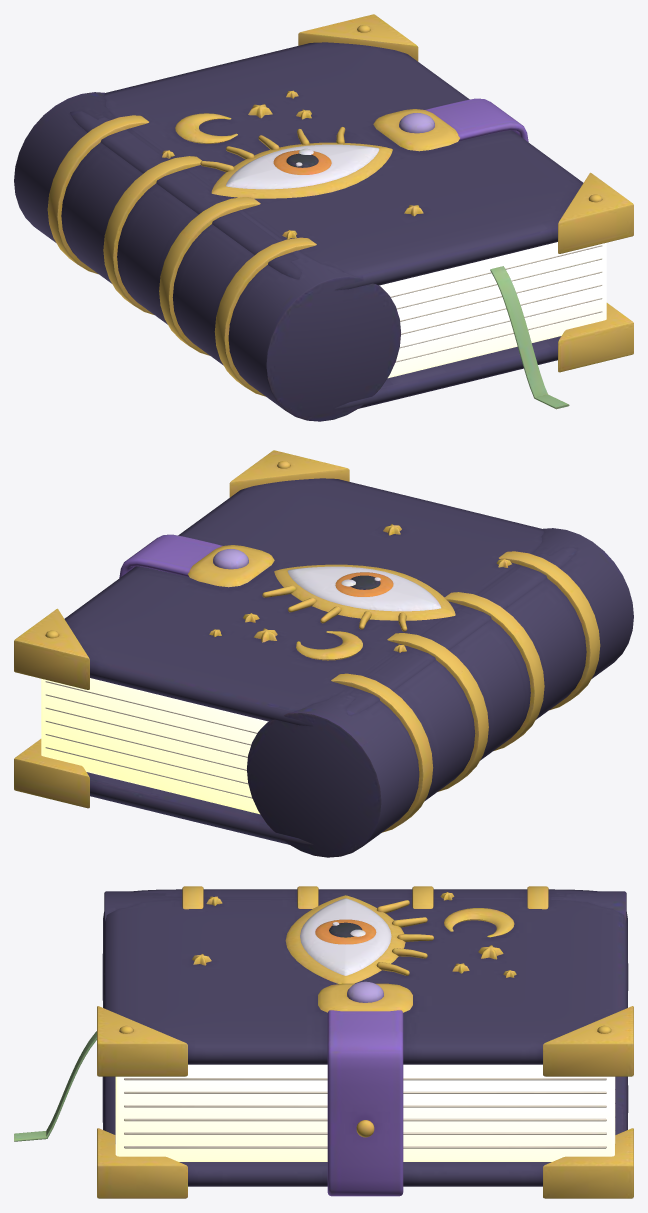
File: libro_maldito.glb
3 views of the same model, one above another, from view 1: azimuth 30°, elevation 25°; view 2: azimuth 150°, elevation 25°; view 3: azimuth 270°, elevation 25° (orthographic). The views are drawn at different scales.
Visible parts, largest first — view 1: cursed-book_body; view 2: cursed-book_body; view 3: cursed-book_body.
Part boxes in pixels (x1,y1,x2,y2): cursed-book_body: [14, 14, 633, 421]; cursed-book_body: [14, 450, 633, 857]; cursed-book_body: [14, 886, 633, 1198].
Size of the model in its own units: 0.2819 by 0.1176 by 0.3775.
2 materials, 1 textured.
